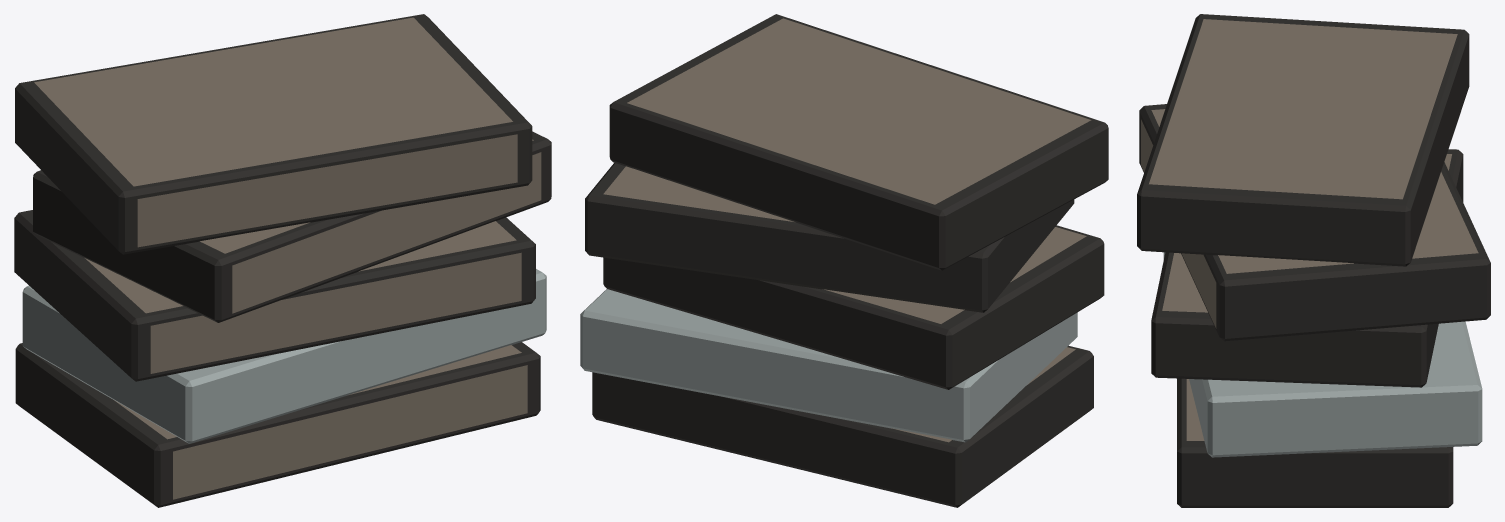
Rendered from cassette-stack-370f5ddd42e6.glb.
3 renders of one model, left to right at view 1: azimuth 30°, elevation 25°; view 2: azimuth 150°, elevation 25°; view 3: azimuth 270°, elevation 25°, orthographic. The views are drawn at different scales.
Visible parts, largest first — view 1: cover-print, plastic-dark, glass-clear; view 2: plastic-dark, cover-print, glass-clear; view 3: plastic-dark, cover-print, glass-clear.
Part boxes in pixels (left/top/right/bottom): cover-print: left=34, top=17, right=541, bottom=499; plastic-dark: left=14, top=14, right=551, bottom=507; glass-clear: left=22, top=269, right=546, bottom=443; plastic-dark: left=585, top=14, right=1108, bottom=507; cover-print: left=603, top=18, right=1091, bottom=442; glass-clear: left=580, top=289, right=1077, bottom=442; plastic-dark: left=1137, top=14, right=1490, bottom=507; cover-print: left=1141, top=19, right=1478, bottom=440; glass-clear: left=1163, top=252, right=1482, bottom=457.
Size of the model in its own units: 0.1256 by 0.0852 by 0.0896.
